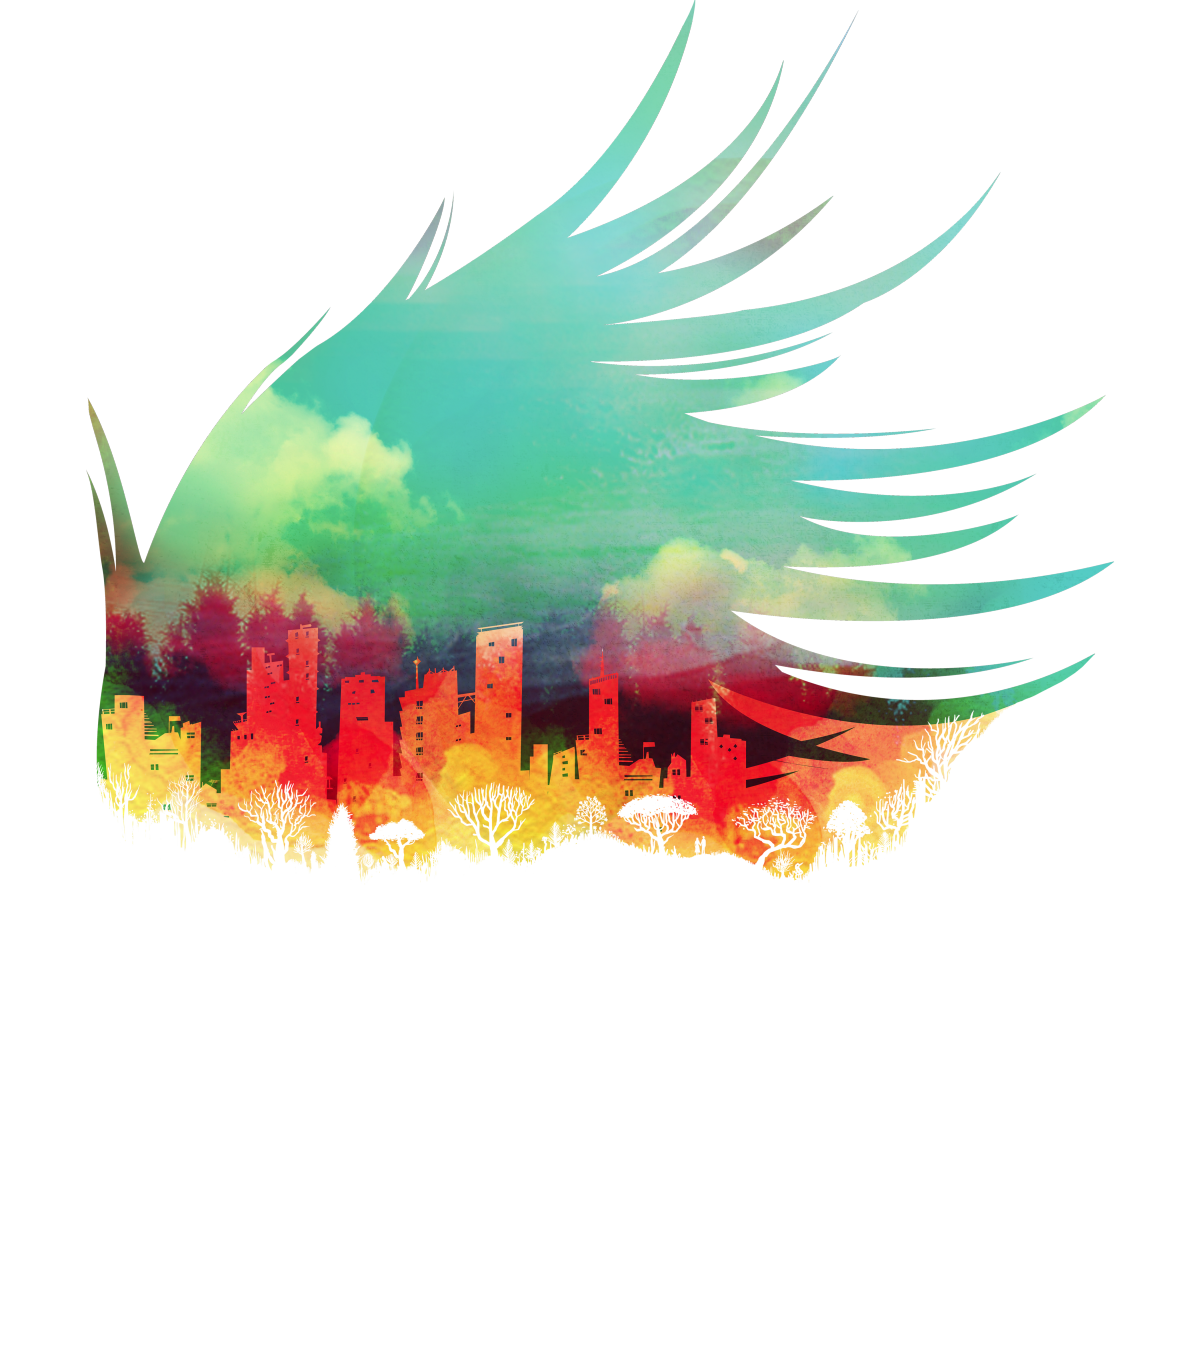design: (24, 1, 1128, 934)
